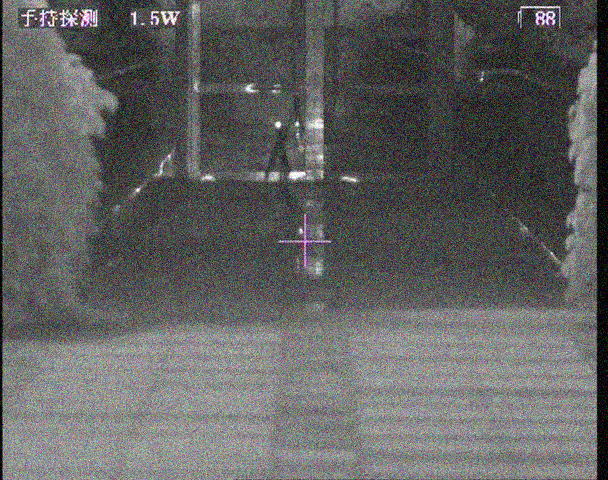my: (274, 121, 282, 128)
